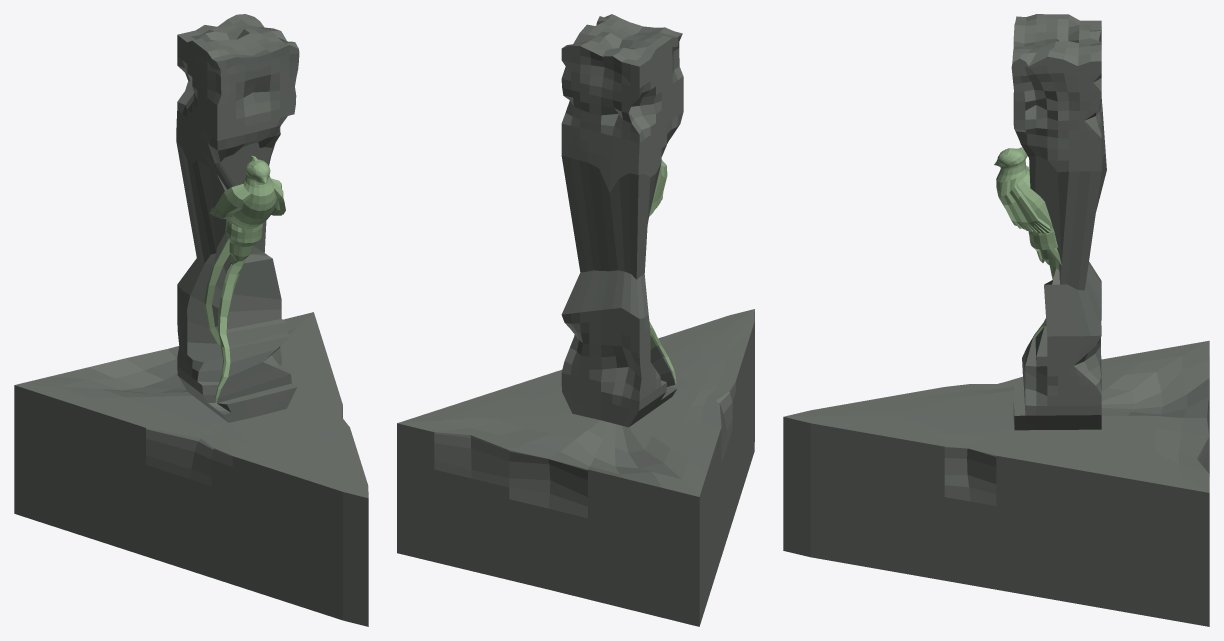
Rendered from Quetzal_column.Merge_Puzzle.fbx.
3 views of the same model, side by side, from view 1: azimuth 30°, elevation 25°; view 2: azimuth 150°, elevation 25°; view 3: azimuth 270°, elevation 25° (orthographic). The views are drawn at different scales.
Parts seen in each view (by area): view 1: Cylinder; view 2: Cylinder; view 3: Cylinder.
Boxes of the visible parts, <box> form: Cylinder: <box>14,14,368,626</box>; Cylinder: <box>397,14,754,626</box>; Cylinder: <box>783,14,1209,626</box>.
Size of the model in its own units: 55.65 by 88.01 by 65.85.
